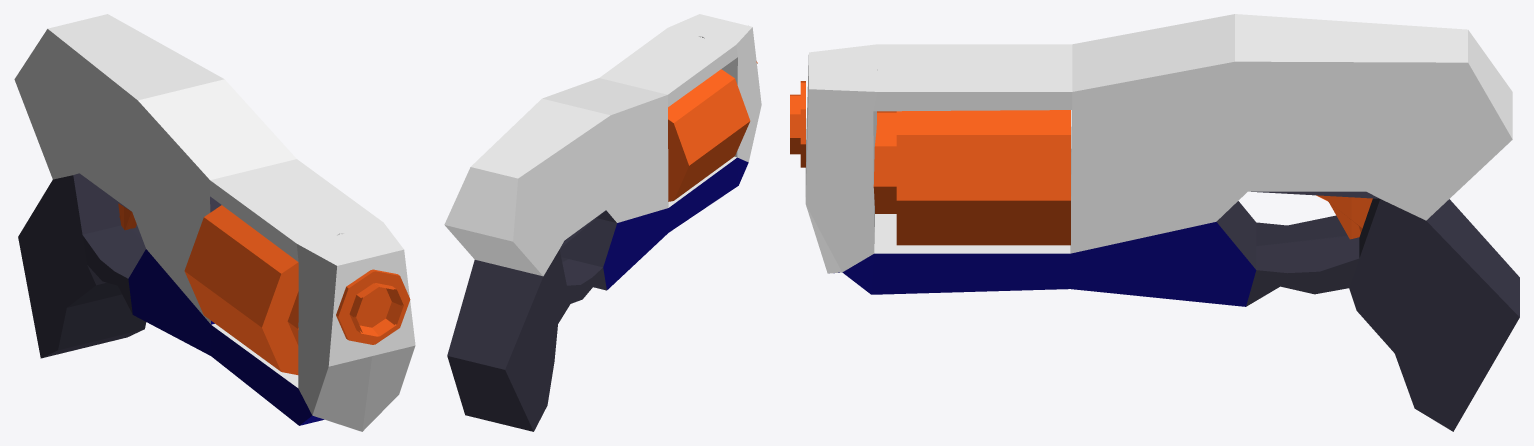
File: toy_gun.fbx
The picture shows the model from 3 angles, left to right: view 1: azimuth 30°, elevation 25°; view 2: azimuth 150°, elevation 25°; view 3: azimuth 270°, elevation 25°; orthographic projection. The views are drawn at different scales.
Parts seen in each view (by area): view 1: ToyGun; view 2: ToyGun; view 3: ToyGun.
Boxes of the visible parts, x1,y1,x2,y2 form: ToyGun: (14,14,415,431); ToyGun: (444,14,761,431); ToyGun: (790,14,1519,431).
Size of the model in its own units: 98.51 by 222 by 397.
